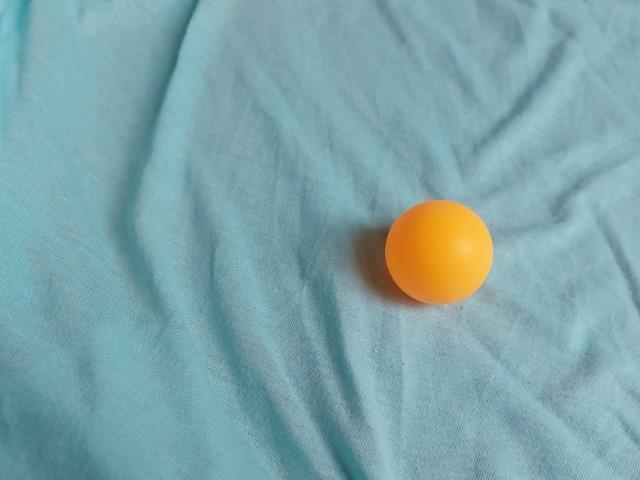oball: (375, 191, 503, 314)
